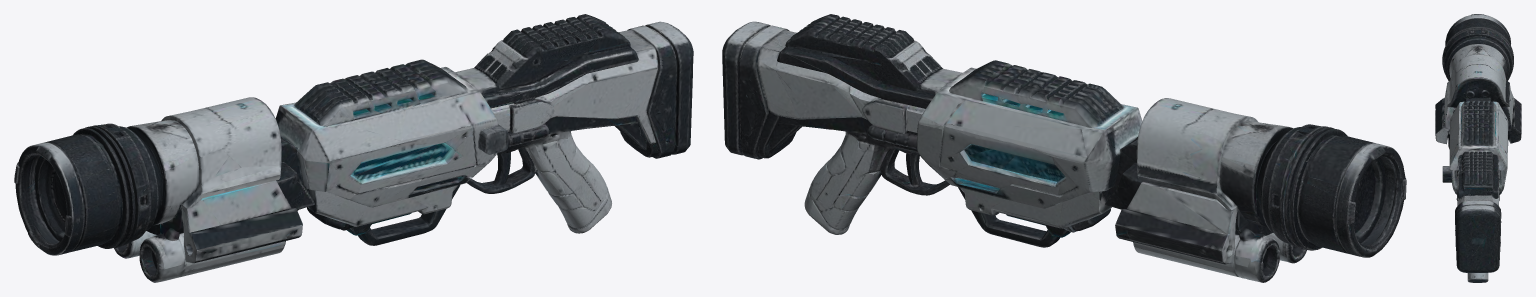
File: w_plasmacannon.glb
The picture shows the model from 3 angles, left to right: view 1: azimuth 30°, elevation 25°; view 2: azimuth 150°, elevation 25°; view 3: azimuth 270°, elevation 25°; orthographic projection. The views are drawn at different scales.
Parts seen in each view (by area): view 1: mesh_0; view 2: mesh_0; view 3: mesh_0.
Boxes of the visible parts, x1,y1,x2,y2 form: mesh_0: (14, 14, 693, 282); mesh_0: (722, 14, 1406, 282); mesh_0: (1435, 14, 1521, 282).
Size of the model in its own units: 1.9 by 0.6105 by 0.3882.
1 material, 1 textured.
